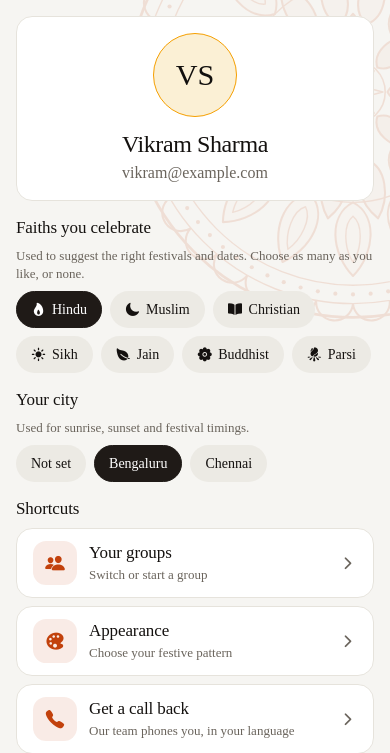
Test case: the profile screen › takes the Save button away again when the change is undone
Click the button "Sikh": x=54, y=354 [16,336,93,373]
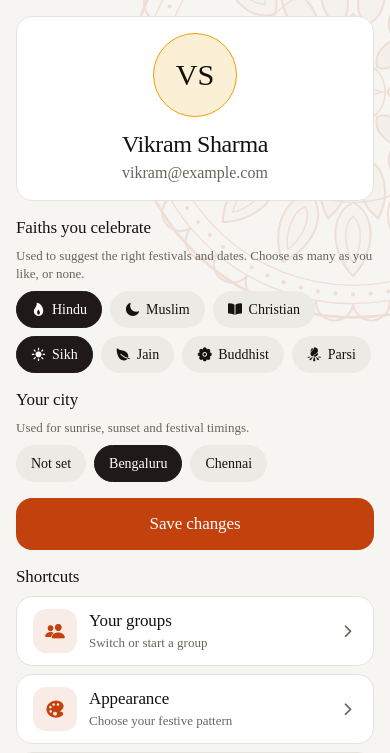
Check: the button "Save changes" is shown, box [16,498,374,550]
Click the button "Sikh": x=54, y=354 [16,336,93,373]
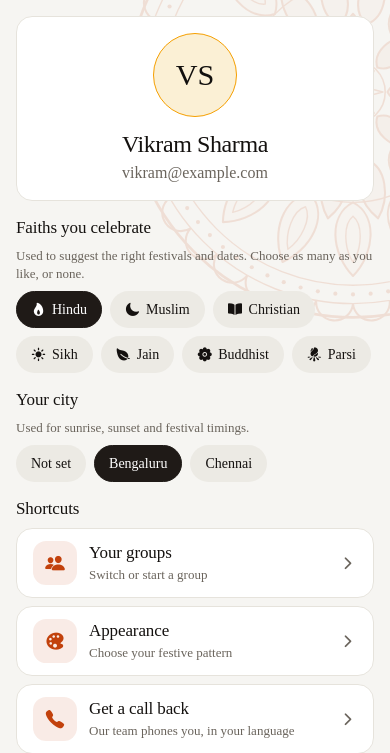
Check: the button "Save changes" is gone
